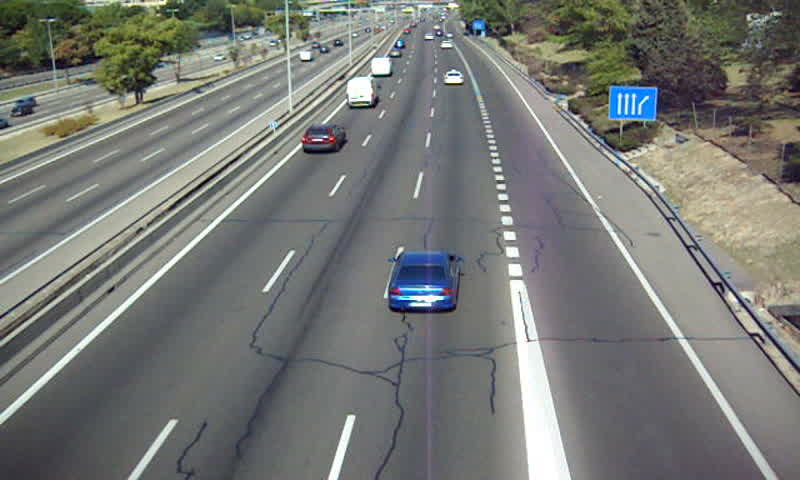car: (386, 249, 458, 311), (300, 124, 348, 152), (444, 71, 465, 85)
van: (345, 77, 378, 109), (371, 57, 392, 76)
